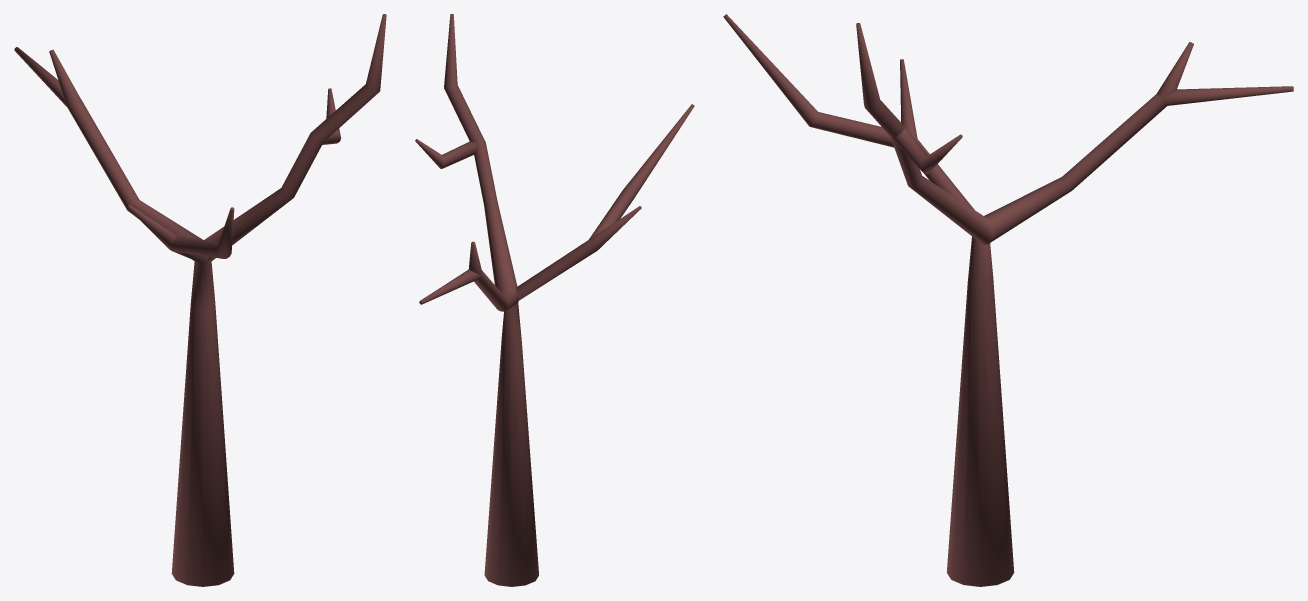
Rendered from tree 2.fbx.
3 views of the same model, side by side, from view 1: azimuth 30°, elevation 25°; view 2: azimuth 150°, elevation 25°; view 3: azimuth 270°, elevation 25° (orthographic). The views are drawn at different scales.
Visible parts, largest first — view 1: Cube; view 2: Cube; view 3: Cube.
Boxes of the visible parts, x1=… form: Cube: x1=14, y1=14, x2=386, y2=586; Cube: x1=415, y1=14, x2=694, y2=586; Cube: x1=723, y1=14, x2=1293, y2=586.
Bounding box in the file's own units: 271 × 618 × 520.
